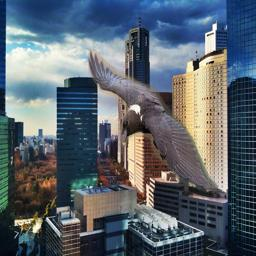Crow: (88, 49, 218, 195)
